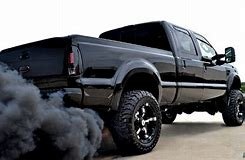smoke: (2, 104, 103, 159)
